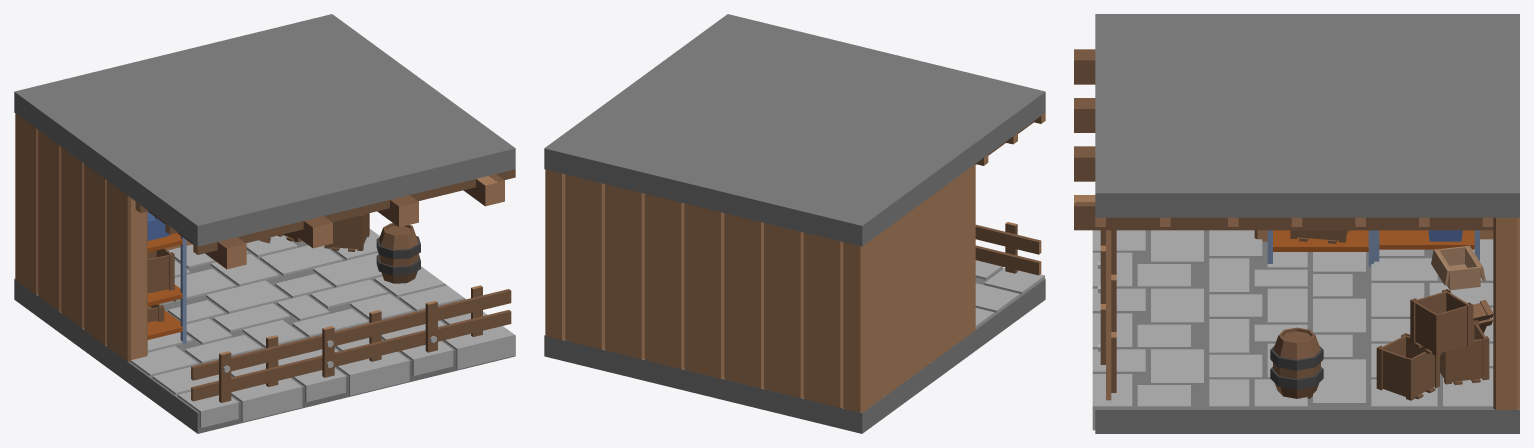
The model's file is ResourceStorage_Level_01_StraightLeft.fbx.
The picture shows the model from 3 angles, left to right: view 1: azimuth 30°, elevation 25°; view 2: azimuth 150°, elevation 25°; view 3: azimuth 270°, elevation 25°; orthographic projection. The views are drawn at different scales.
Parts seen in each view (by area): view 1: ResourceStorage_Level_01_StraightLeft; view 2: ResourceStorage_Level_01_StraightLeft; view 3: ResourceStorage_Level_01_StraightLeft.
Boxes of the visible parts, left/top/right/bottom form: ResourceStorage_Level_01_StraightLeft: left=14, top=14, right=515, bottom=433; ResourceStorage_Level_01_StraightLeft: left=544, top=14, right=1045, bottom=433; ResourceStorage_Level_01_StraightLeft: left=1074, top=14, right=1519, bottom=433.
Bounding box in the file's own units: 8 × 5 × 8.4.
